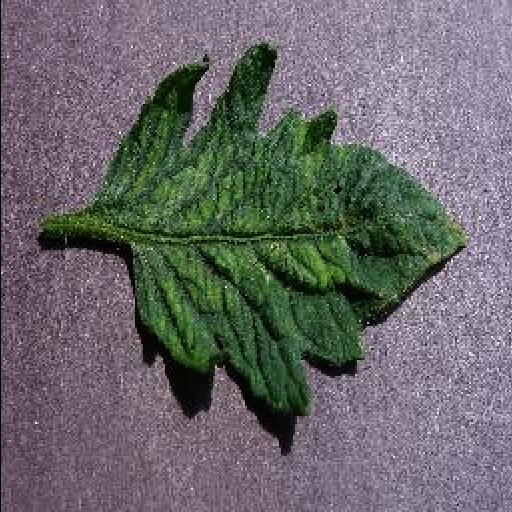Mosaic Virus: (92, 37, 466, 415)
